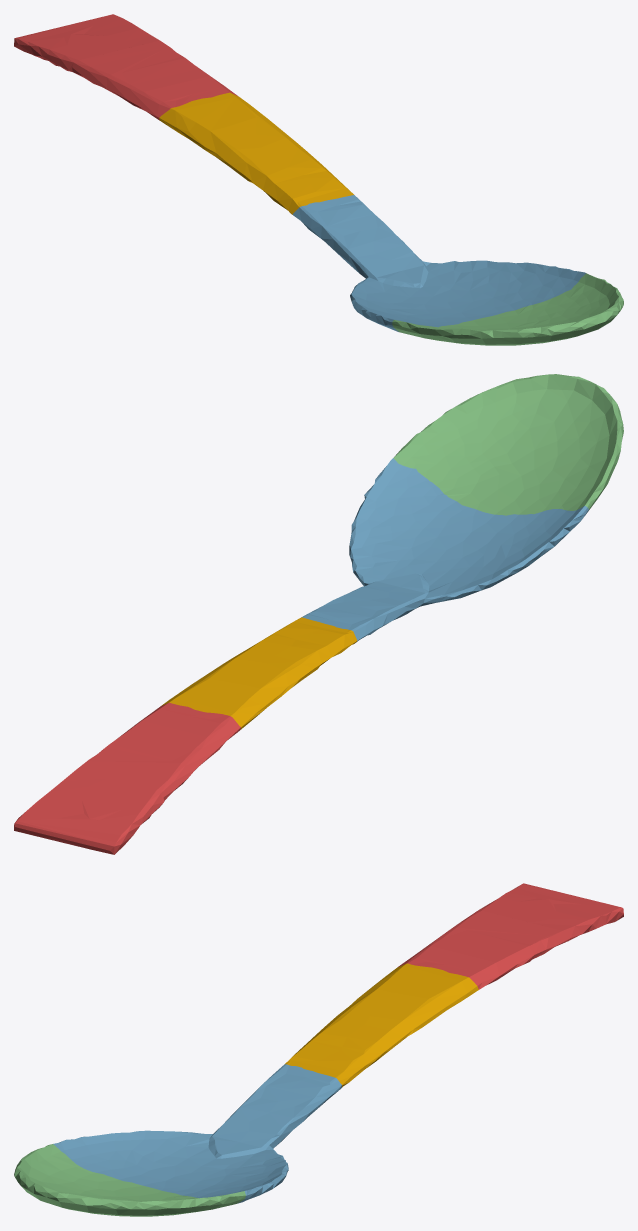
The model's file is mode_3_4pcs.glb.
3 renders of one model, top to bottom at view 1: azimuth 30°, elevation 25°; view 2: azimuth 150°, elevation 25°; view 3: azimuth 330°, elevation 25°, orthographic.
Parts seen in each view (by area): view 1: piece_2.obj, piece_1.obj, piece_0.obj, piece_3.obj; view 2: piece_3.obj, piece_2.obj, piece_1.obj, piece_0.obj; view 3: piece_2.obj, piece_1.obj, piece_0.obj, piece_3.obj.
Boxes of the visible parts, x1,y1,x2,y2 form: piece_2.obj: [292, 195, 585, 331]; piece_1.obj: [14, 14, 238, 120]; piece_0.obj: [159, 92, 353, 214]; piece_3.obj: [392, 273, 623, 345]; piece_3.obj: [393, 374, 623, 515]; piece_2.obj: [302, 458, 588, 641]; piece_1.obj: [14, 702, 240, 854]; piece_0.obj: [161, 617, 357, 729]; piece_2.obj: [53, 1064, 342, 1203]; piece_1.obj: [398, 883, 623, 989]; piece_0.obj: [285, 963, 478, 1087]; piece_3.obj: [14, 1144, 245, 1216].
Bounding box in the file's own units: 0.2204 × 0.0967 × 1.
